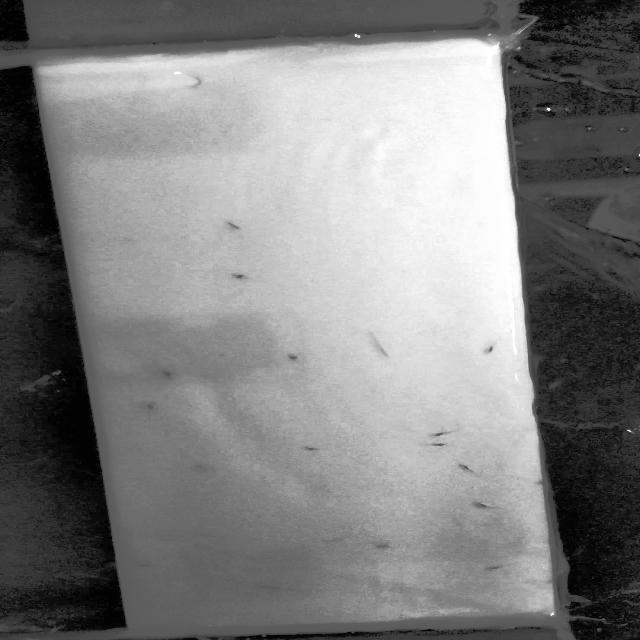shrimp: (355, 330, 398, 358), (471, 340, 510, 361), (420, 426, 460, 440), (364, 540, 407, 552), (134, 400, 166, 414), (464, 500, 504, 511), (223, 222, 250, 238), (424, 443, 466, 453), (485, 560, 516, 572), (286, 352, 314, 364), (126, 562, 159, 572), (152, 370, 182, 379), (256, 585, 289, 593), (454, 465, 482, 474), (304, 445, 330, 454), (230, 276, 257, 283)
